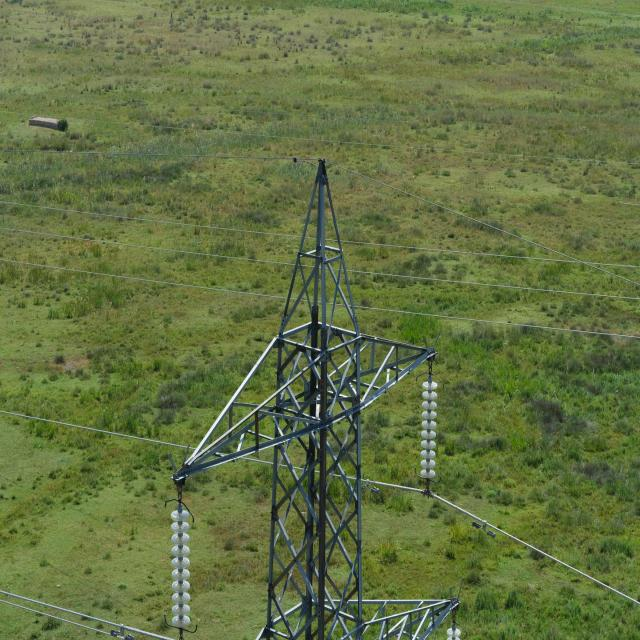direk: (205, 149, 428, 640)
